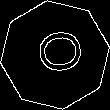O_W: (27, 30, 83, 80)
